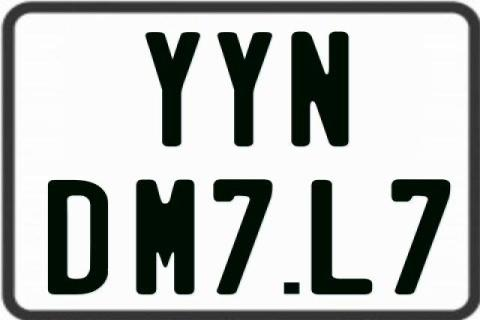0: (210, 179, 274, 299), (392, 178, 452, 294)
D: (45, 177, 105, 293)
L: (310, 178, 372, 294)
M: (136, 178, 199, 298)
N: (290, 29, 354, 147)
Y: (218, 31, 276, 149), (146, 29, 202, 149)
